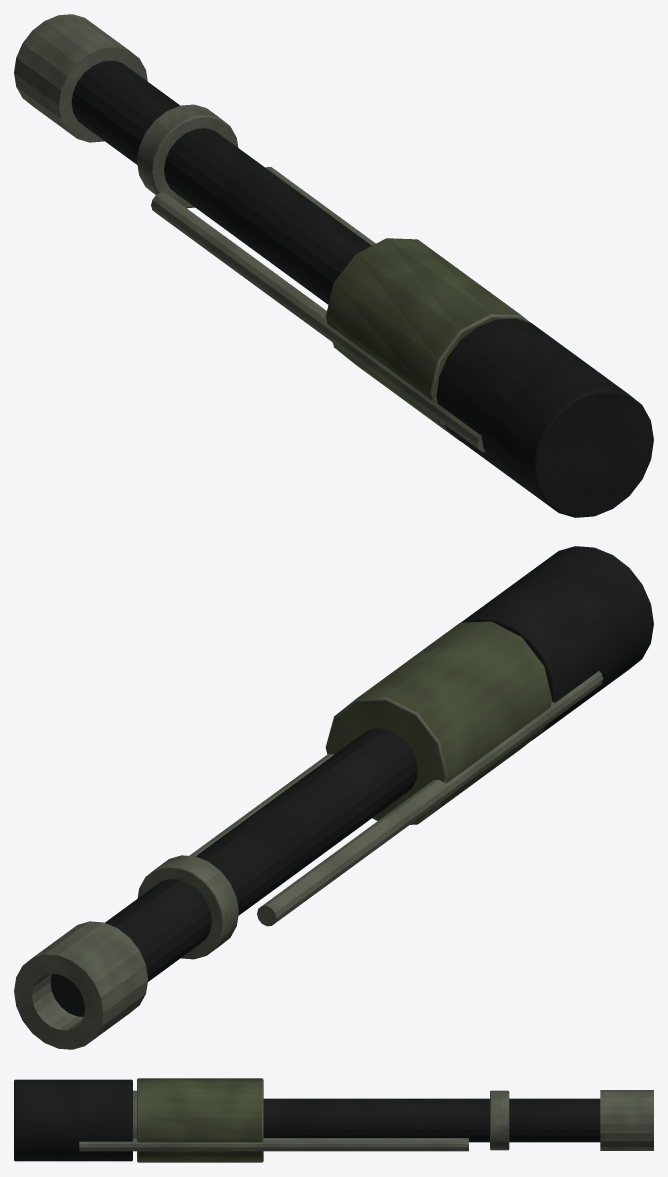
The model's file is jackal-barrel.fbx.
3 renders of one model, top to bottom at view 1: azimuth 30°, elevation 25°; view 2: azimuth 150°, elevation 25°; view 3: azimuth 270°, elevation 25°, orthographic. The views are drawn at different scales.
Parts seen in each view (by area): view 1: jackal-barrel_Steel, jackal-barrel_Edge, jackal-barrel_Armor; view 2: jackal-barrel_Steel, jackal-barrel_Edge, jackal-barrel_Armor; view 3: jackal-barrel_Steel, jackal-barrel_Armor, jackal-barrel_Edge.
Part boxes in pixels (x1,y1,x2,y2): jackal-barrel_Steel: (71, 60, 653, 517); jackal-barrel_Edge: (14, 14, 485, 452); jackal-barrel_Armor: (325, 238, 530, 441); jackal-barrel_Steel: (50, 546, 653, 1016); jackal-barrel_Edge: (14, 671, 602, 1049); jackal-barrel_Armor: (325, 621, 552, 824); jackal-barrel_Steel: (14, 1079, 600, 1161); jackal-barrel_Armor: (137, 1078, 263, 1162); jackal-barrel_Edge: (79, 1090, 653, 1151).
Bounding box in the file's own units: 45 × 44 × 333.
4 materials, 4 textured.
